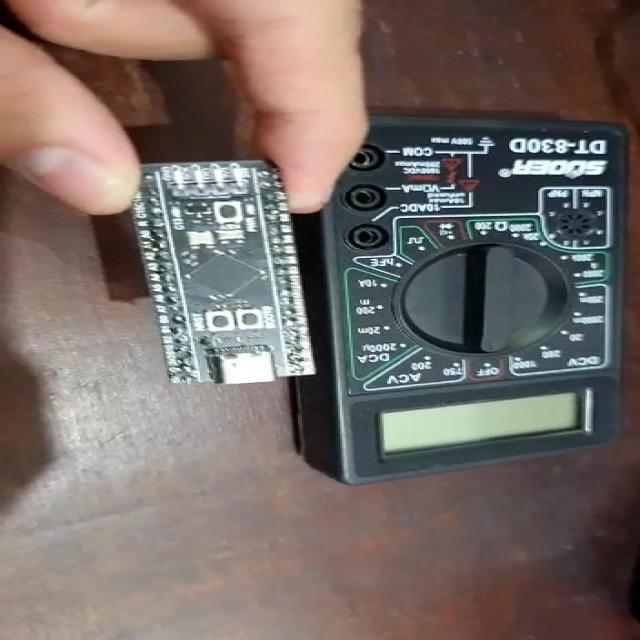multimeter: (325, 118, 608, 464)
stm32: (125, 156, 313, 384)
